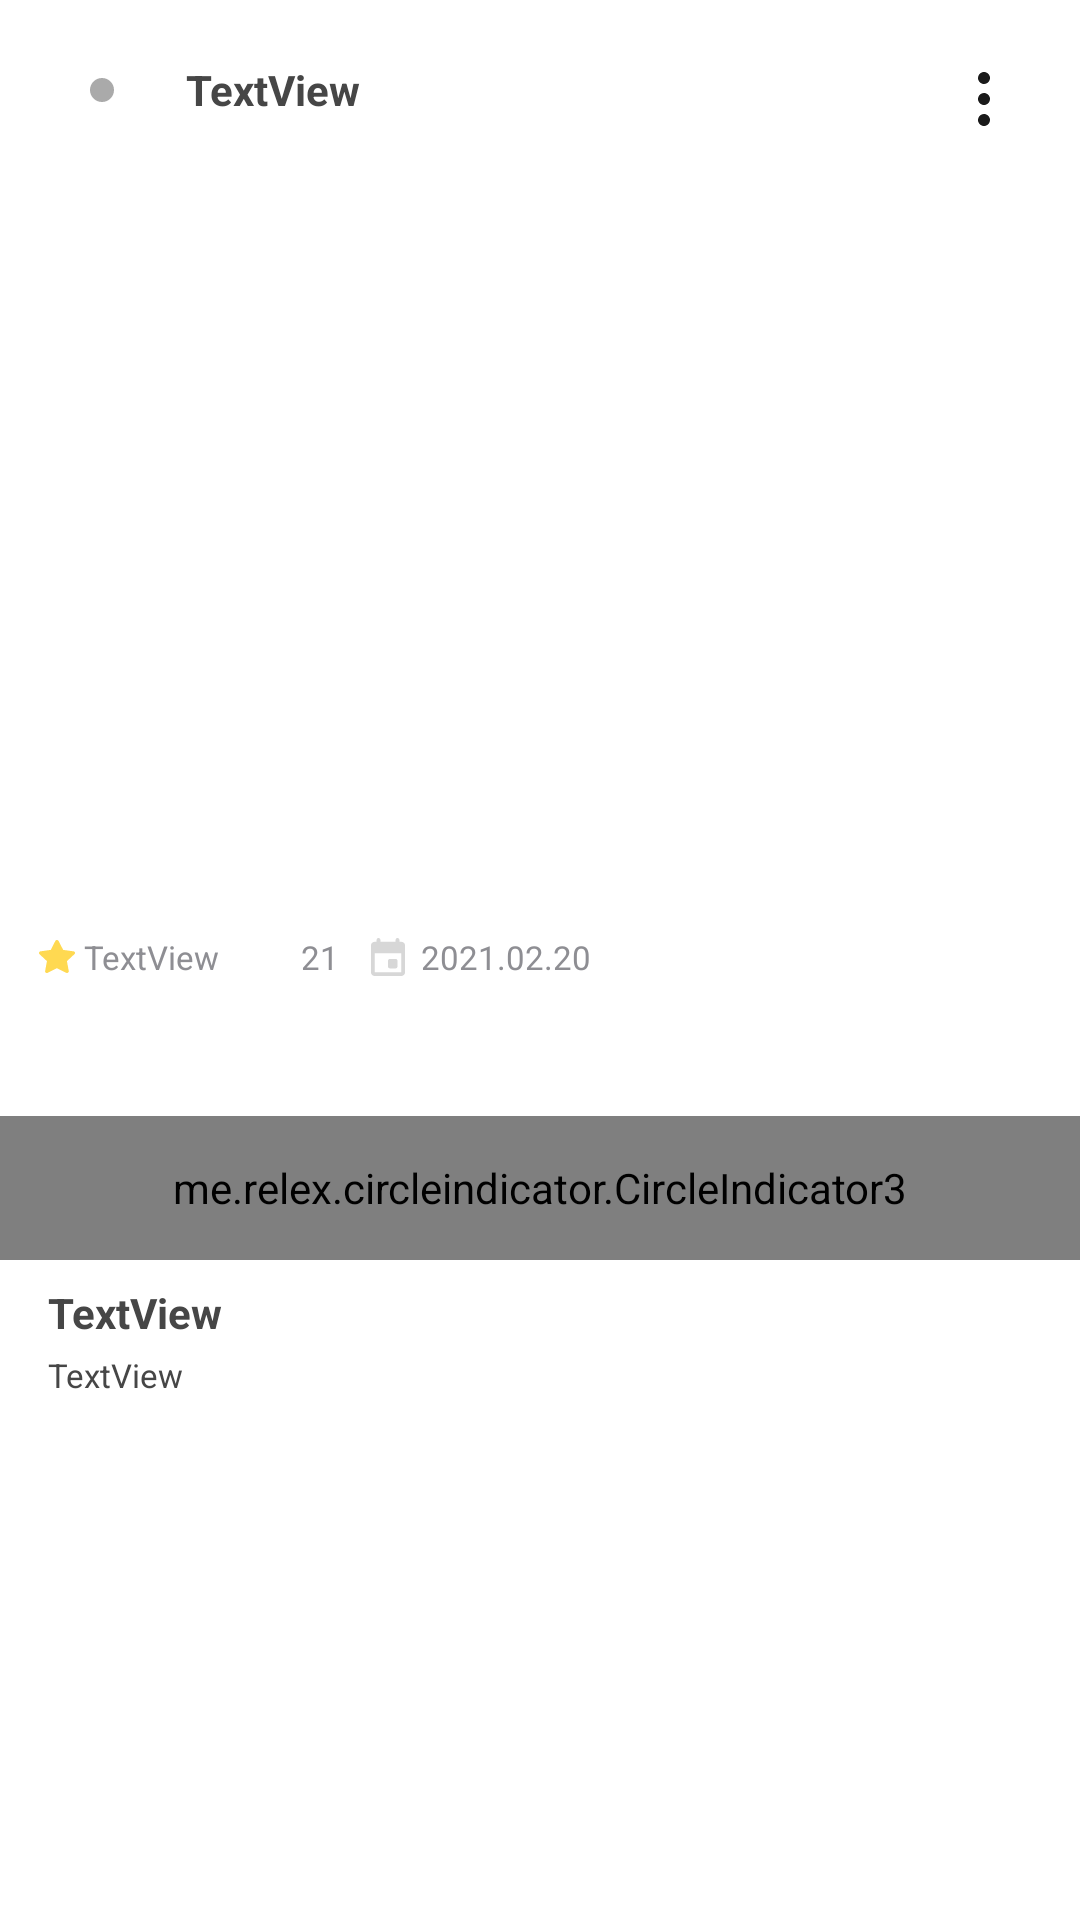

Icon click points for this 1080*1920 phone screenshot, format (x,y):
date: (388,957)
star: (57,956)
vertical more: (984,99)
